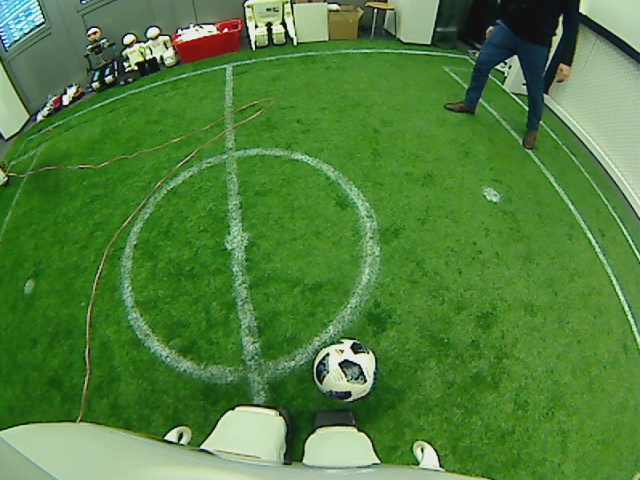ball: (309, 337, 376, 403)
